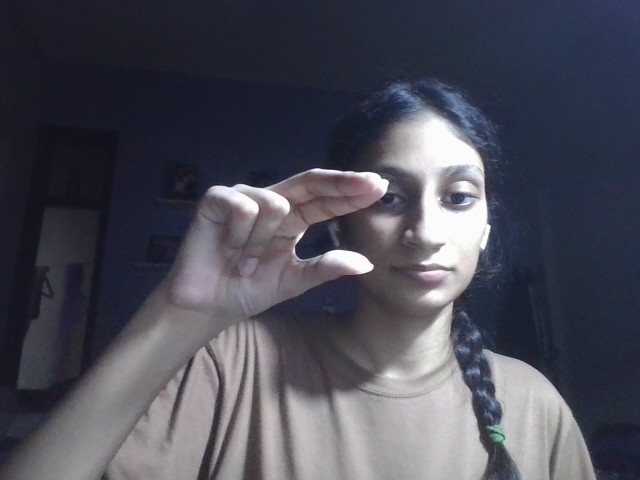no: (180, 165, 387, 323)
